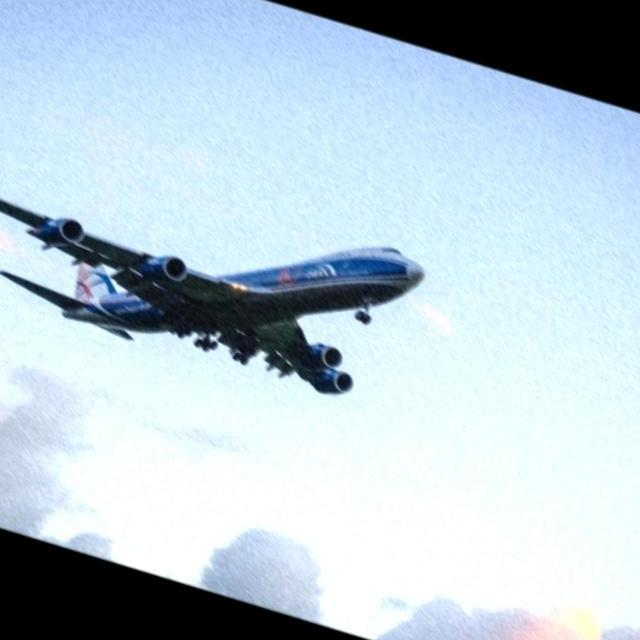airplane: (0, 150, 428, 403)
